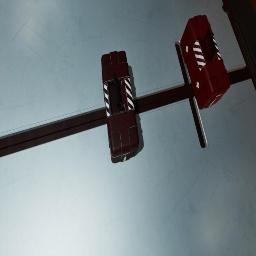FirstAidBox ,: (180, 15, 230, 109), (101, 51, 139, 163)
